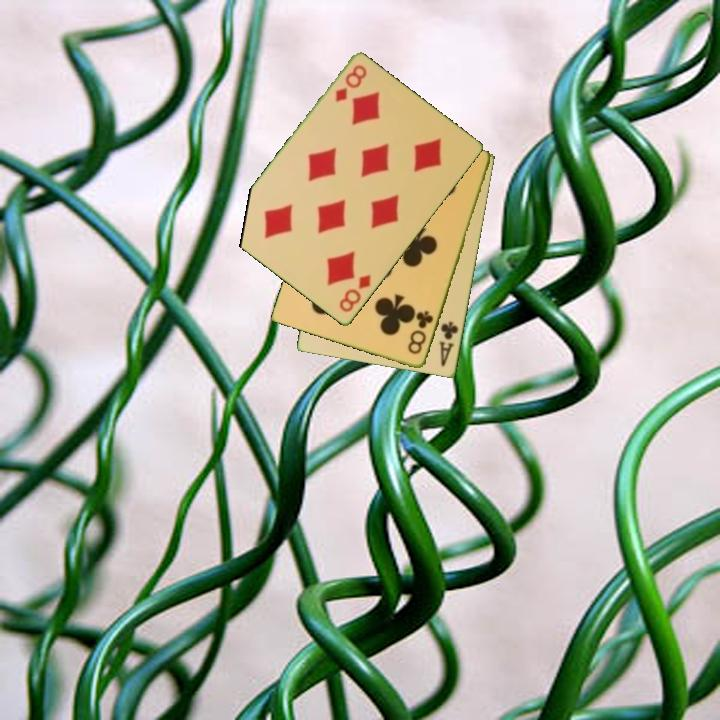8c: (404, 307, 436, 358)
8d: (332, 61, 370, 106), (336, 271, 374, 315)
Ac: (436, 318, 461, 370)
